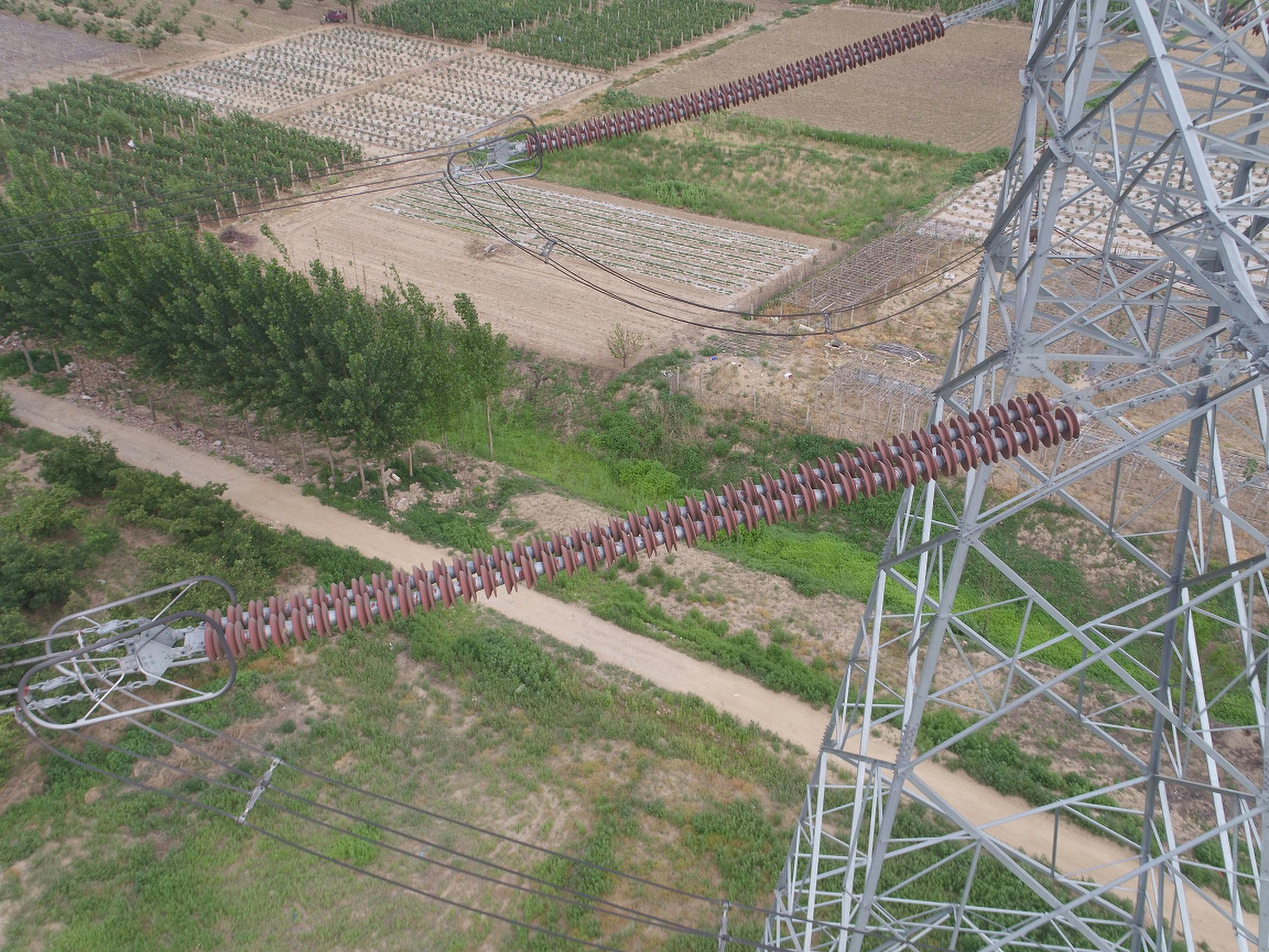insulator: (199, 388, 1084, 667), (522, 12, 947, 160)
